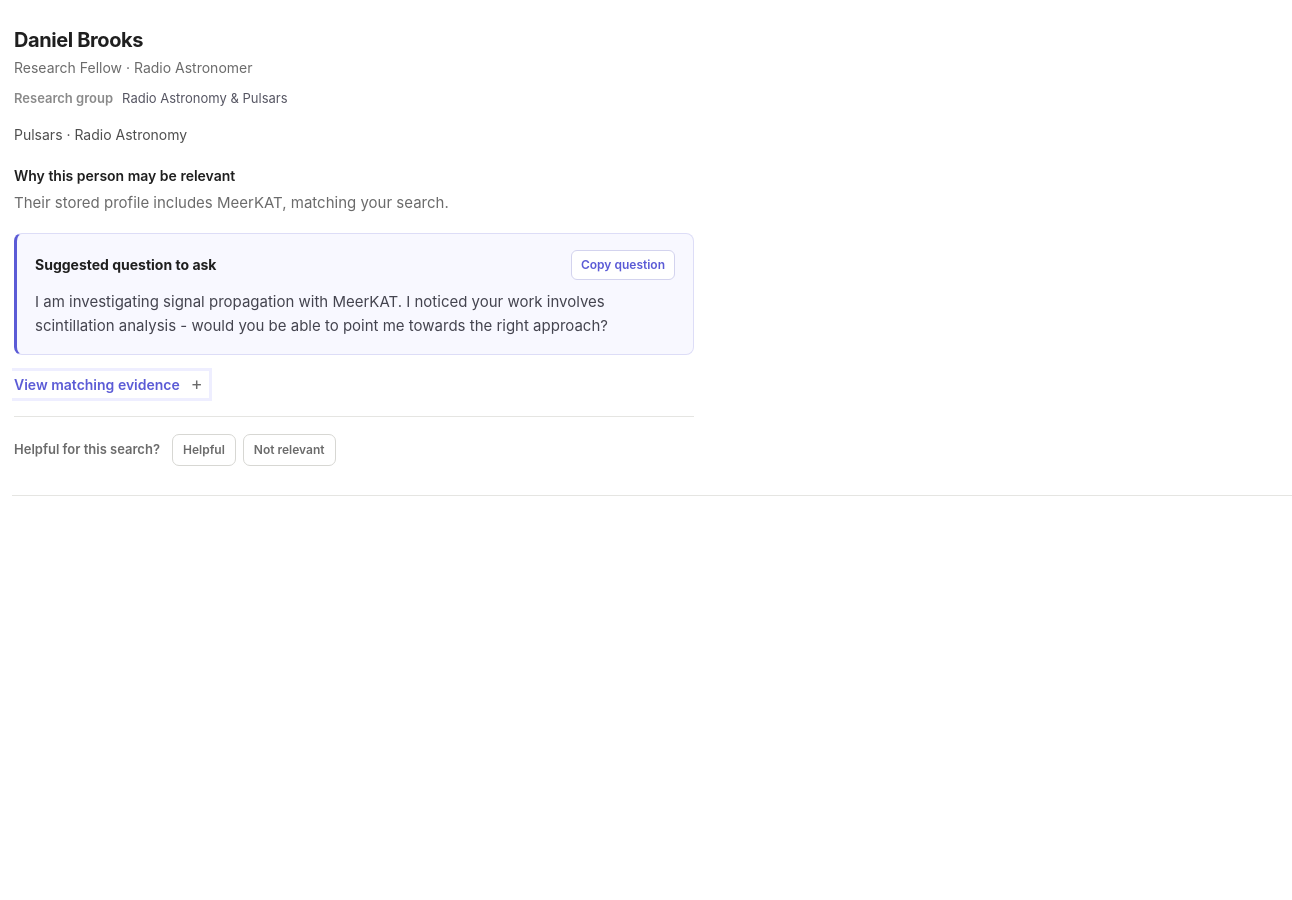
Test case: SearchResult evidence disclosure › keeps the reason visible and expands traced evidence accessibly
This screenshot has width=1292, height=900.
Expected: the text "Their stored profile includes MeerKAT, matching your search." is shown, [14, 192, 449, 212]
Expected: the link "Radio Astronomy & Pulsars" is shown, [122, 90, 288, 106]
Click the heading "View matching evidence": (110, 384) [14, 374, 206, 394]
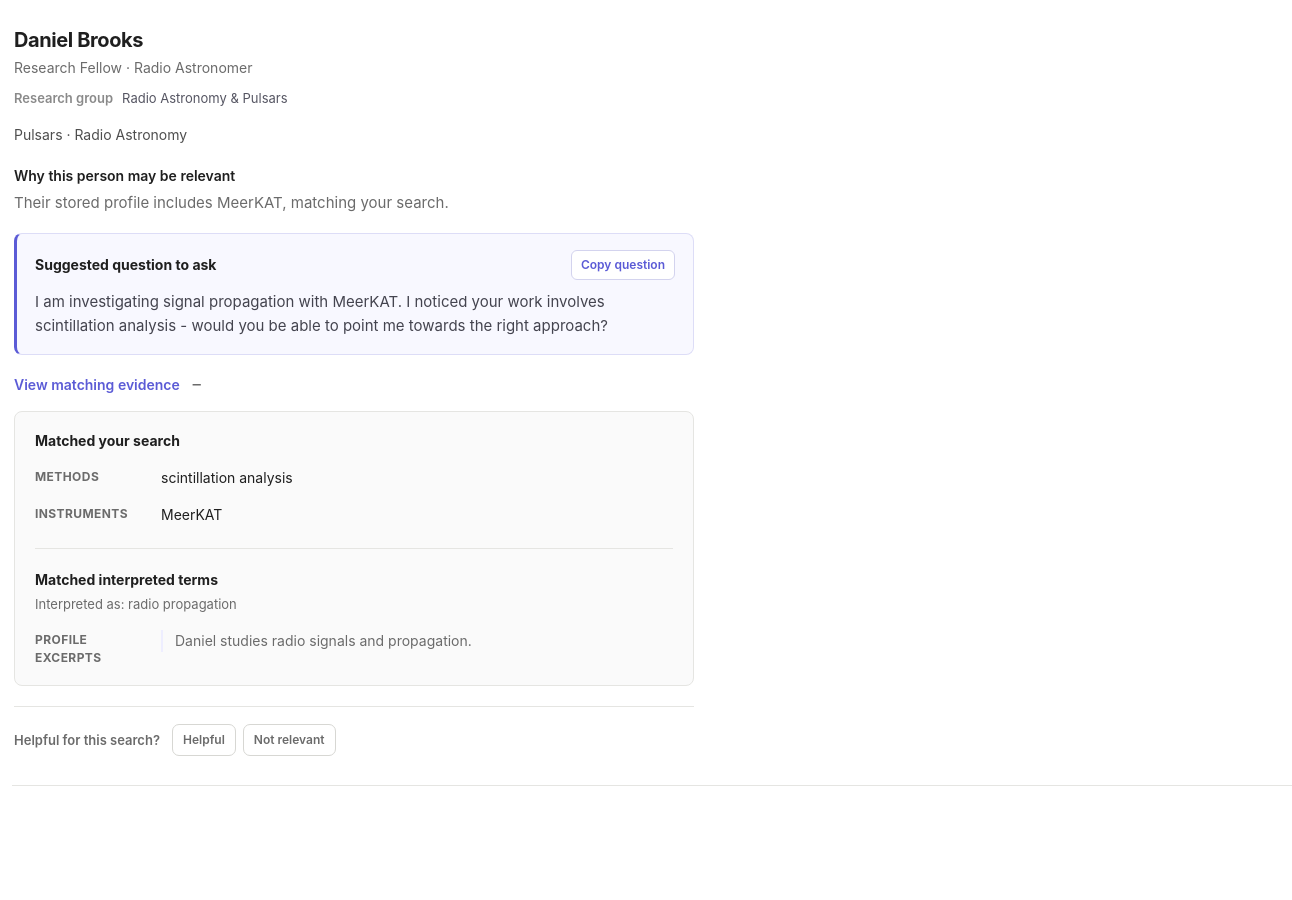
Expected: the heading "Matched your search" is shown, [35, 432, 180, 448]
Expected: the heading "Matched interpreted terms" is shown, [35, 571, 218, 588]
Expected: the text "Interpreted as: radio propagation" is shown, [35, 596, 237, 612]
